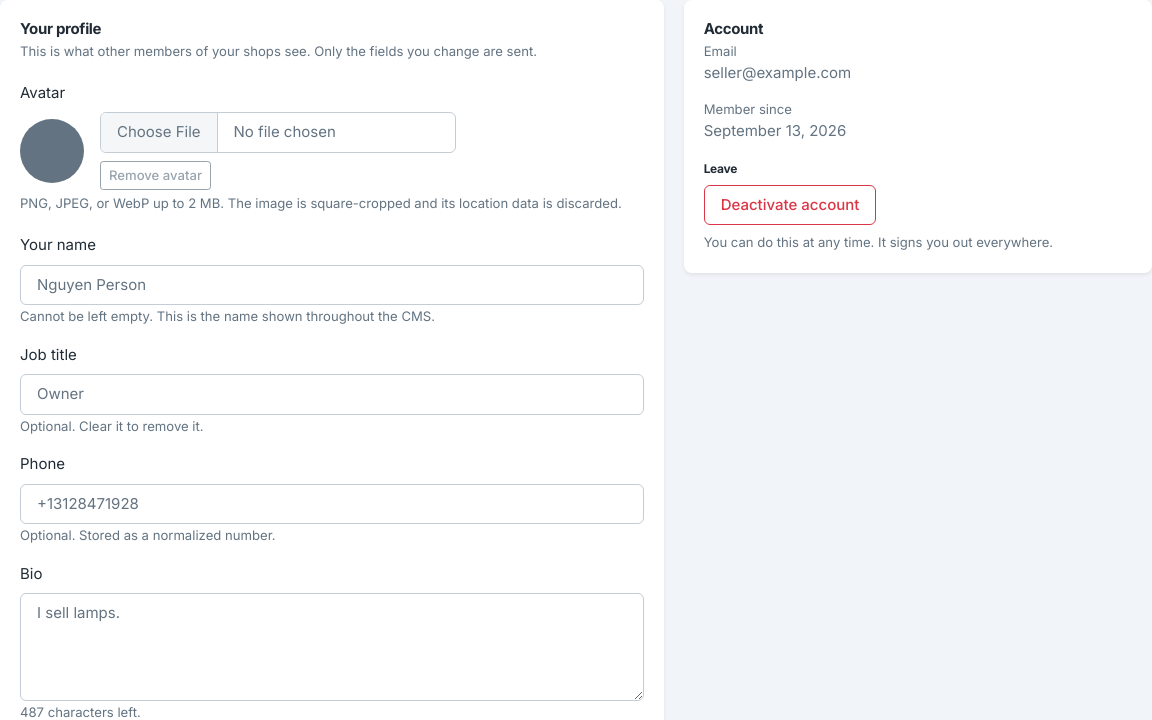
Test: profile form › says where a deactivated account can be restored, not just that it cannot
Click the button "Deactivate account": (790, 205) [704,185,876,225]
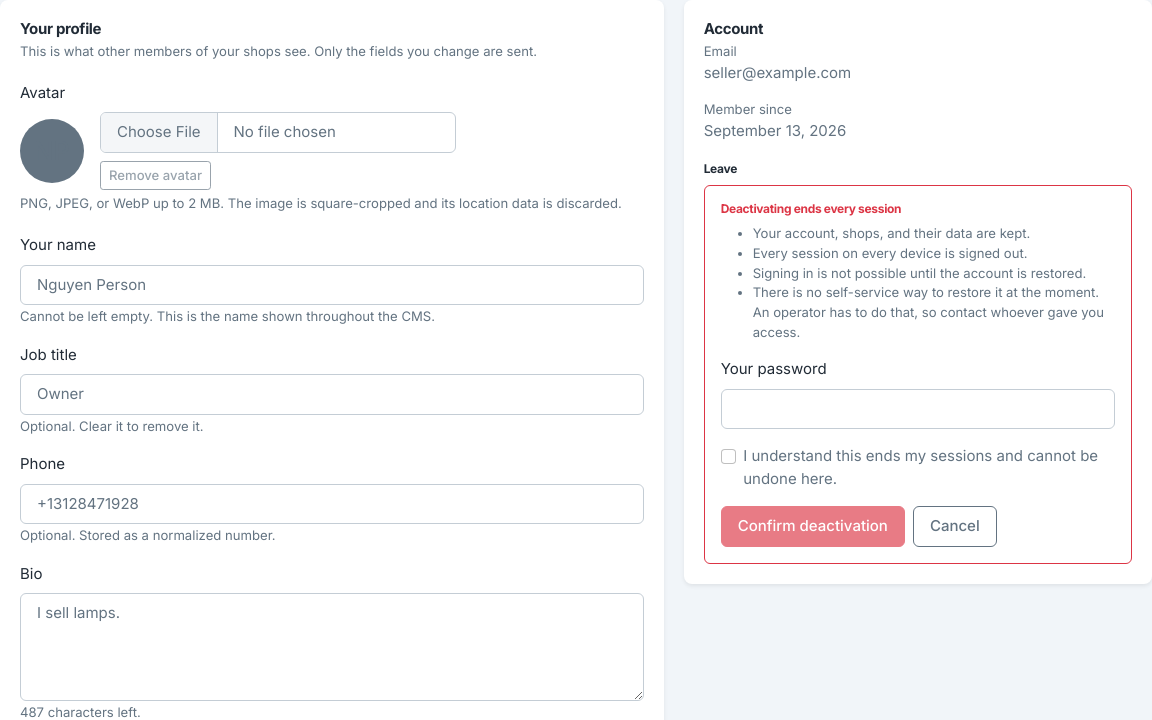
expect the list item "no self-service way to restore it" is shown: met, box [753,284,1104,340]
expect the list item "Every session on every device is signed out." is shown: met, box [753,245,1028,261]
